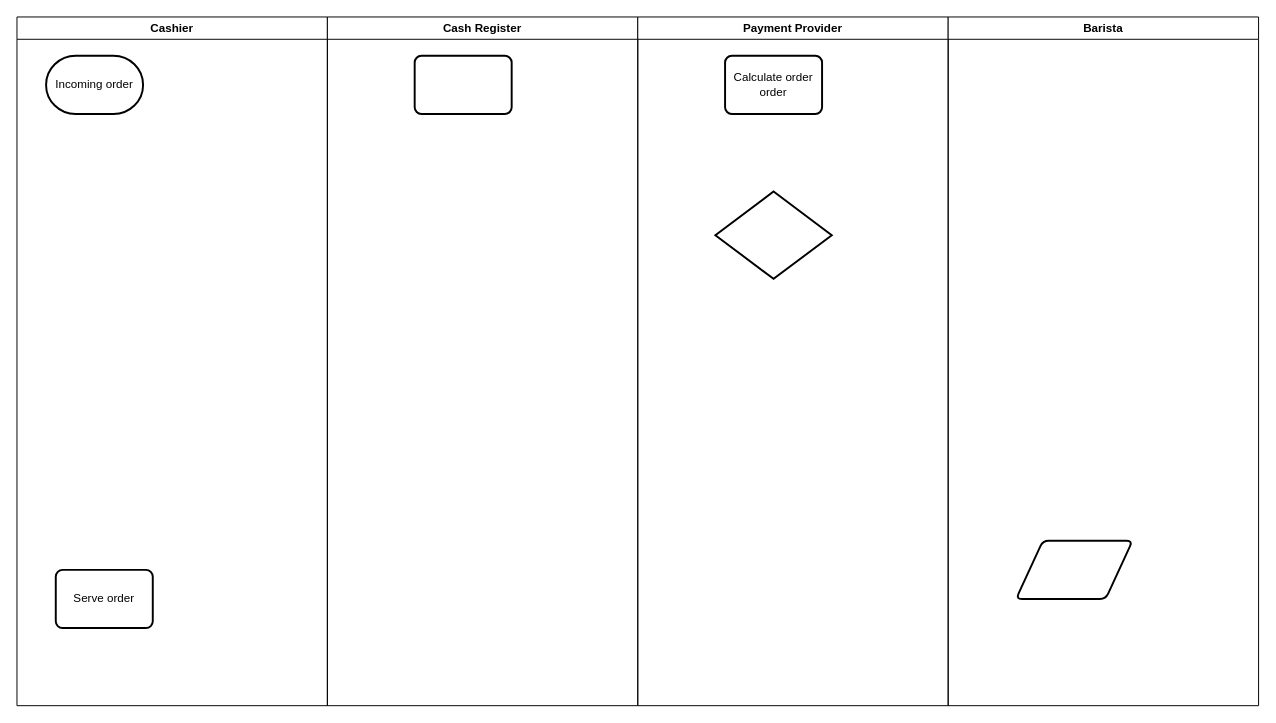
The diagram is 1276 pixels wide and 723 high, and some of its shapes have lost their labels. Here are the shapes that lost their labels. From the top down, the centre of each, then its label:
the point at 462,84: Take order
the point at 773,234: Verify credit card
the point at 1074,569: Order prepared
